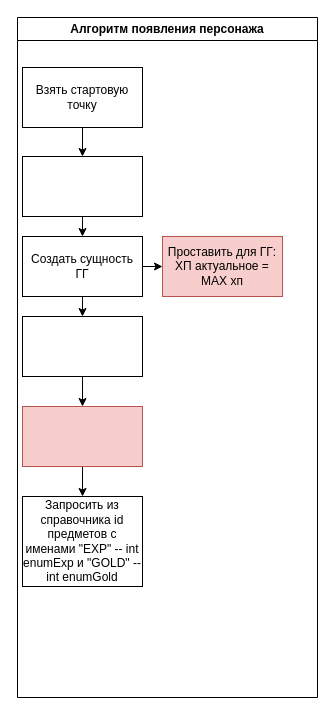
The diagram is 335 pixels wide and 715 high, and some of its shapes have lost their labels. The shapes that lost their labels are listed below. From the top down, each one's centre as x and y in pixels, then its label:
the point at 82,186: Запустить анимацию появления персонажа
the point at 82,346: Отобразить модельку персонажа
the point at 82,436: Запустить секундомер и рассчет кривой сложности
